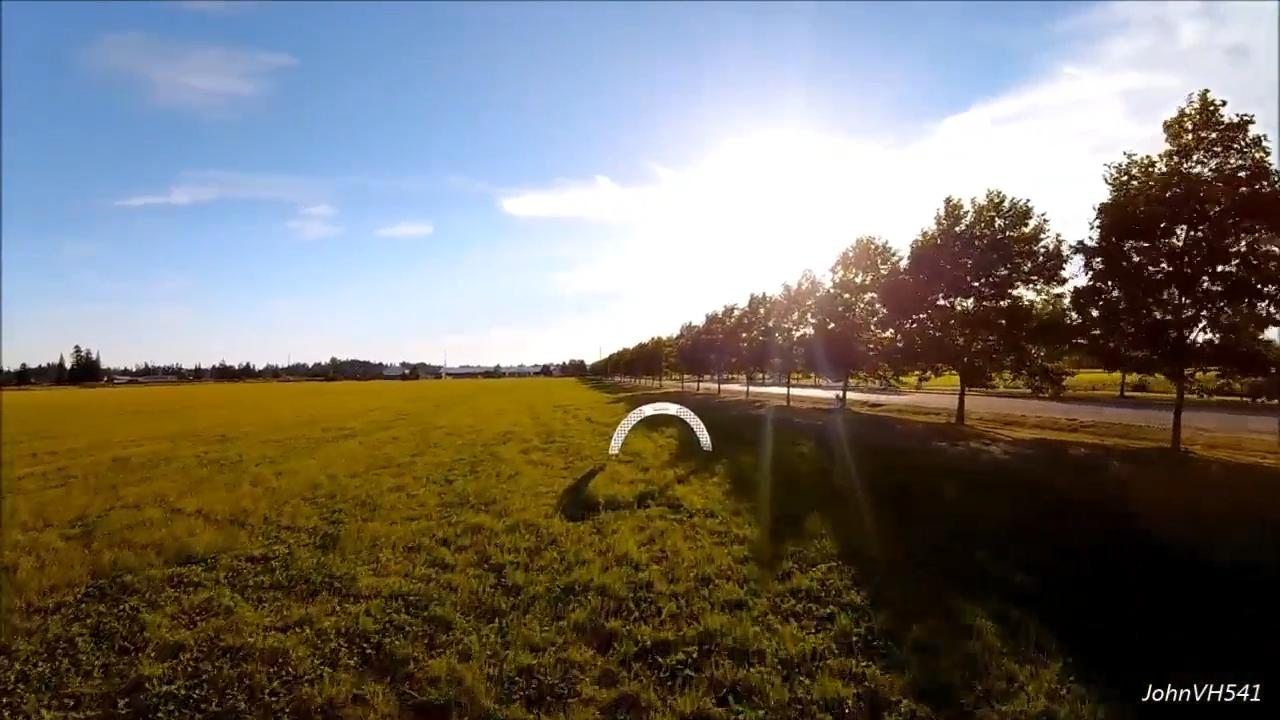gate: (605, 400, 713, 462)
